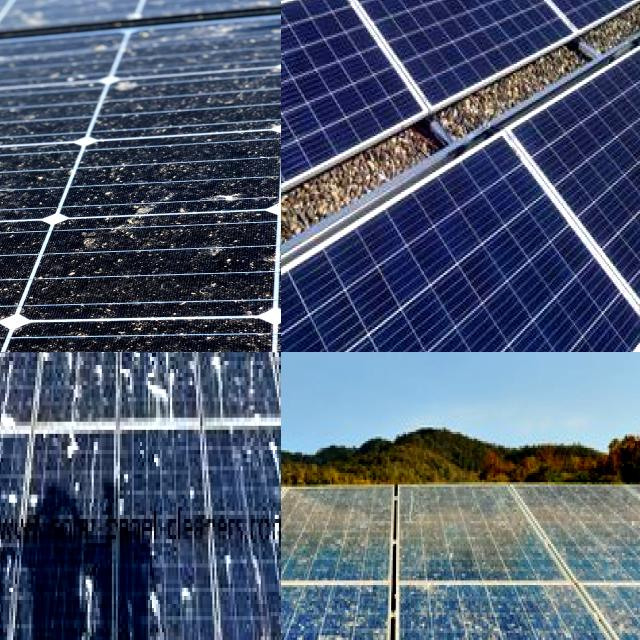bird: (0, 145, 69, 250), (60, 422, 98, 504), (200, 352, 258, 405), (0, 54, 57, 106), (134, 352, 182, 412), (0, 494, 24, 608), (251, 406, 281, 489), (58, 352, 109, 400), (222, 546, 272, 594), (186, 352, 239, 388), (141, 573, 167, 640), (1, 352, 43, 392), (0, 352, 37, 391), (0, 466, 12, 570), (176, 577, 201, 625), (0, 352, 22, 406), (252, 603, 281, 640), (0, 352, 23, 397), (0, 598, 18, 640), (260, 352, 281, 381)
crack: (332, 180, 640, 352), (340, 68, 618, 210), (281, 25, 440, 204)
